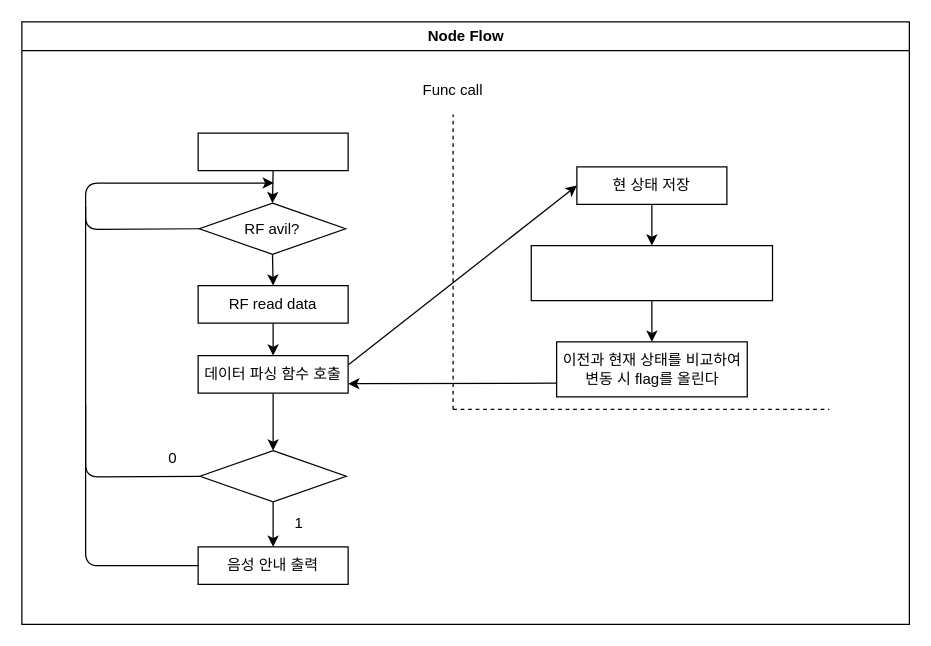
Image size: 931x646. Some labels were removed from this diagram. The shapes that lost their labels are listed below. From the top down, each one's box as (x1, y1, x2, y2) in pixels, then its label:
(197, 132, 348, 171): 시작
(530, 244, 772, 301): 전송받은 데이터를 비트 단위로 나누어 각 상태에 저장한다
(199, 449, 346, 502): flag?
